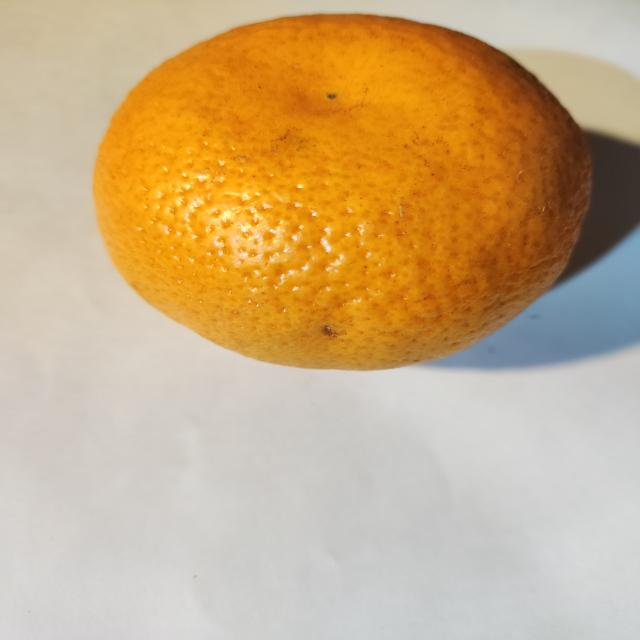orange: (95, 15, 590, 369)
